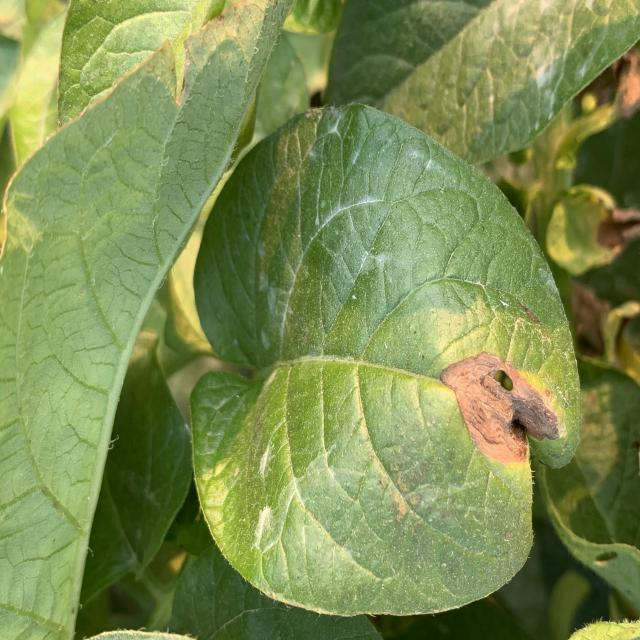lateblight: (440, 352, 559, 463)
